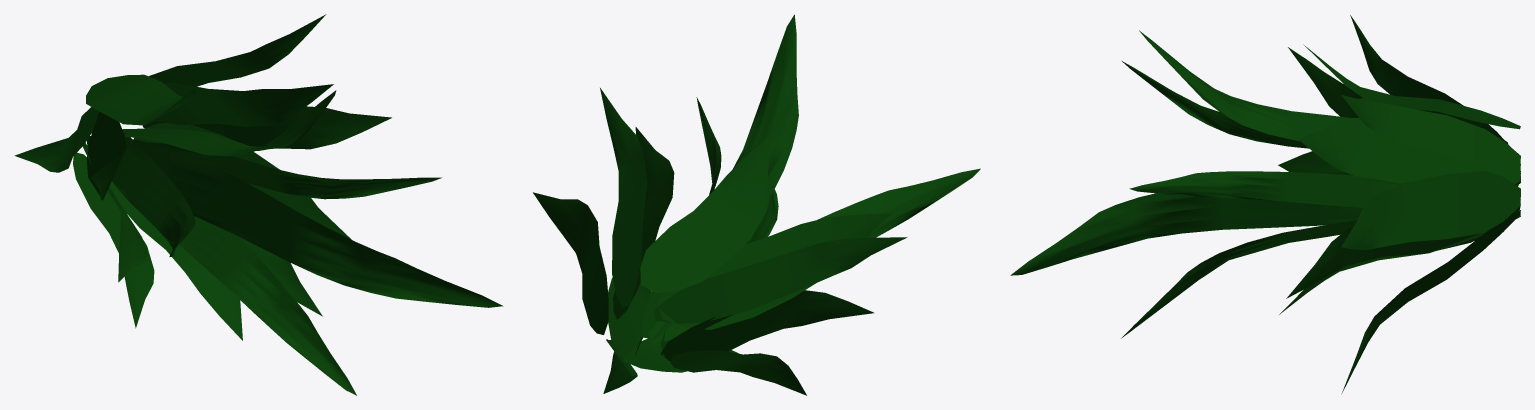
File: weed.obj
The picture shows the model from 3 angles, left to right: view 1: azimuth 30°, elevation 25°; view 2: azimuth 150°, elevation 25°; view 3: azimuth 270°, elevation 25°; orthographic projection.
Visible parts, largest first — view 1: desert_plant; view 2: desert_plant; view 3: desert_plant.
Part boxes in pixels (x1,y1,x2,y2): desert_plant: (14, 14, 503, 395); desert_plant: (533, 14, 980, 395); desert_plant: (1010, 15, 1520, 393).
Bounding box in the file's own units: 18.08 × 14.87 × 21.3.
